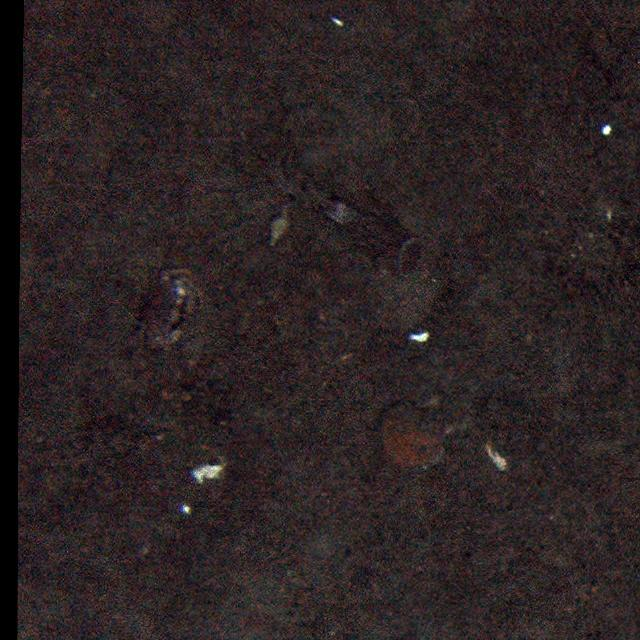crab: (136, 264, 203, 351)
